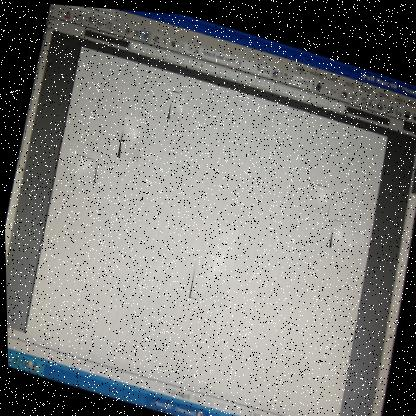spot: (185, 215, 239, 305), (114, 112, 145, 161), (326, 212, 351, 247), (309, 178, 332, 211), (73, 153, 98, 182), (164, 86, 185, 120)
